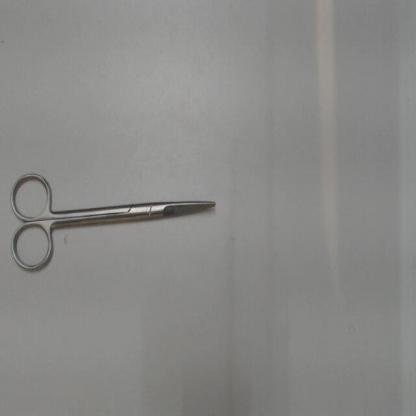Curved Mayo Scissors: (8, 168, 219, 277)
